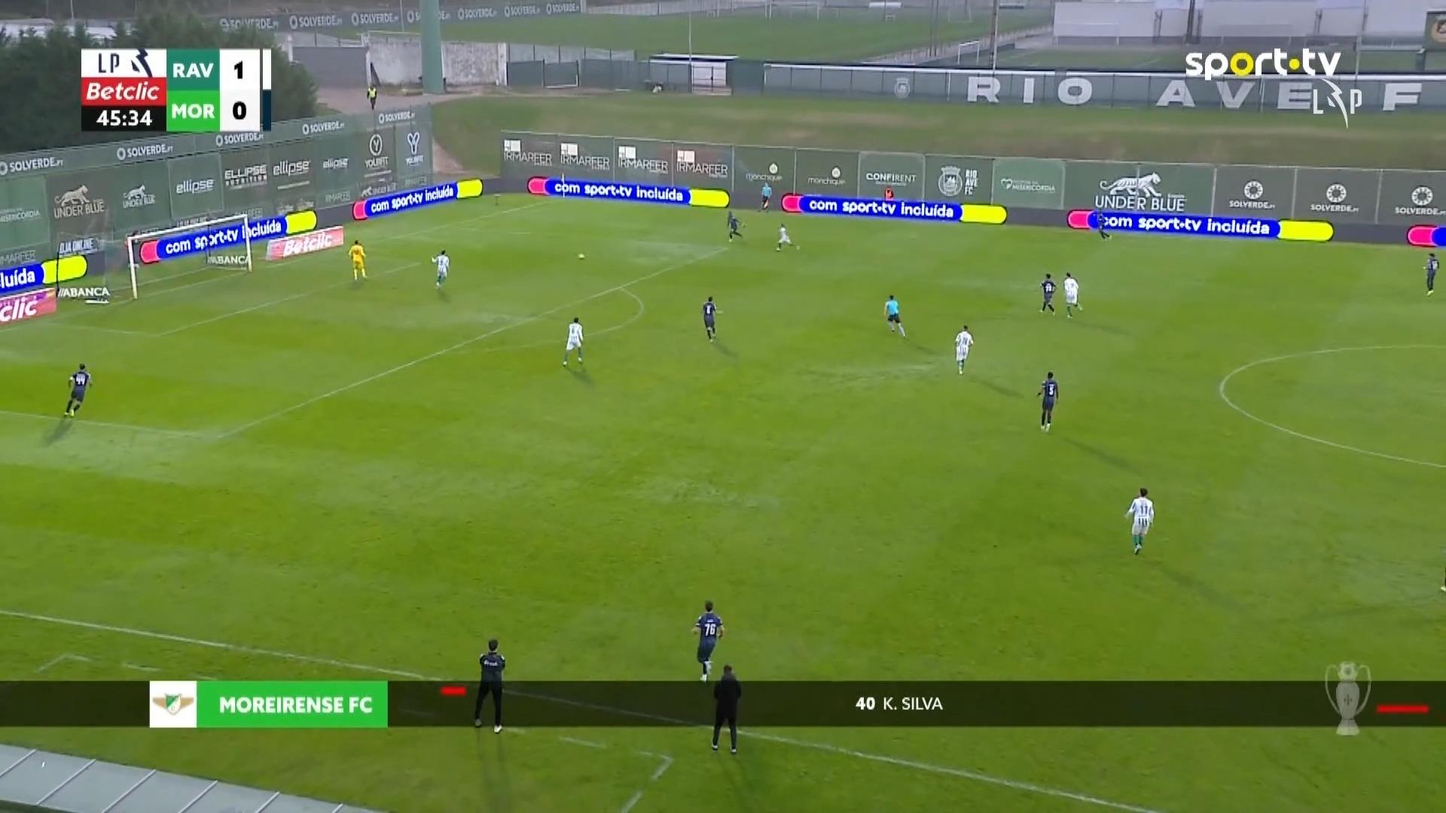ball: (577, 252, 584, 259)
goalkeeper: (347, 239, 368, 282)
player: (691, 599, 725, 683), (1124, 486, 1155, 556), (63, 362, 93, 418), (1036, 370, 1057, 431), (562, 316, 584, 366), (953, 324, 973, 374), (701, 295, 721, 342), (1063, 271, 1081, 318), (430, 249, 450, 289), (1422, 251, 1438, 295), (774, 223, 799, 251), (1039, 273, 1056, 314), (726, 209, 743, 241), (1097, 212, 1111, 239)
referee: (472, 638, 505, 732), (710, 663, 740, 754), (883, 294, 906, 338), (758, 180, 773, 212)
